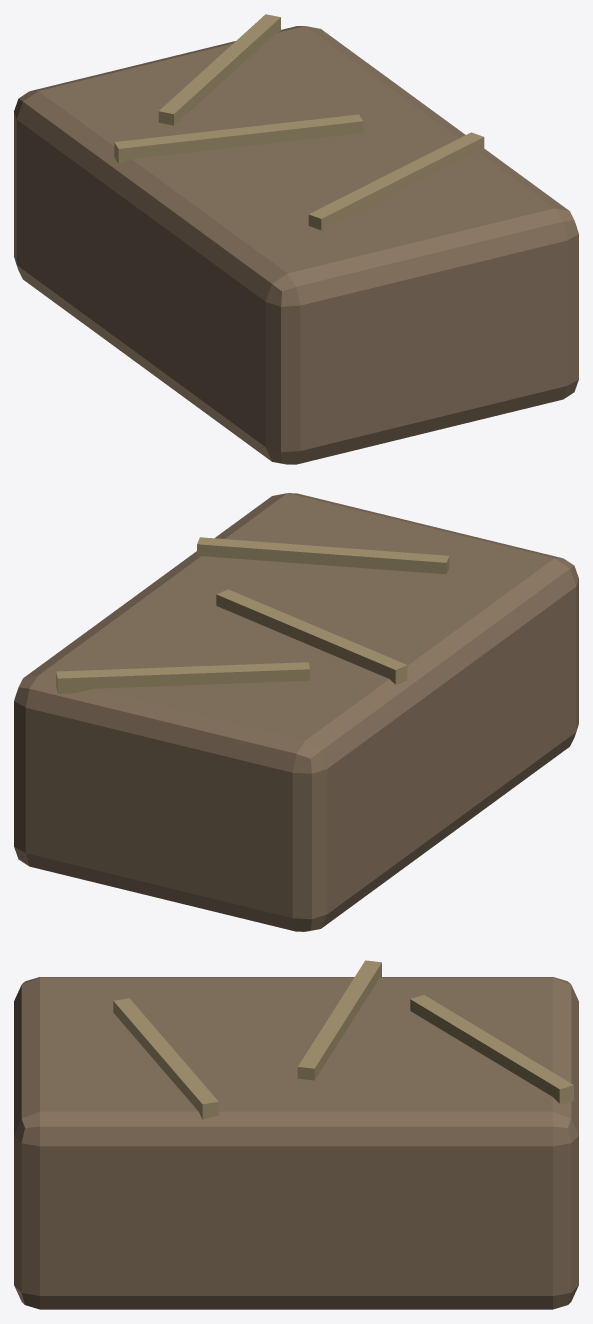
Rendered from peat_held.gltf.
The picture shows the model from 3 angles, top to bottom: view 1: azimuth 30°, elevation 25°; view 2: azimuth 150°, elevation 25°; view 3: azimuth 270°, elevation 25°; orthographic projection. The views are drawn at different scales.
Parts seen in each view (by area): view 1: wilds_peat_held; view 2: wilds_peat_held; view 3: wilds_peat_held.
Boxes of the visible parts, box(x1,y1,x2,y2) form: wilds_peat_held: box(14, 14, 578, 464); wilds_peat_held: box(14, 493, 578, 931); wilds_peat_held: box(14, 960, 578, 1309).
Size of the model in its own units: 0.085 by 0.053 by 0.13.
